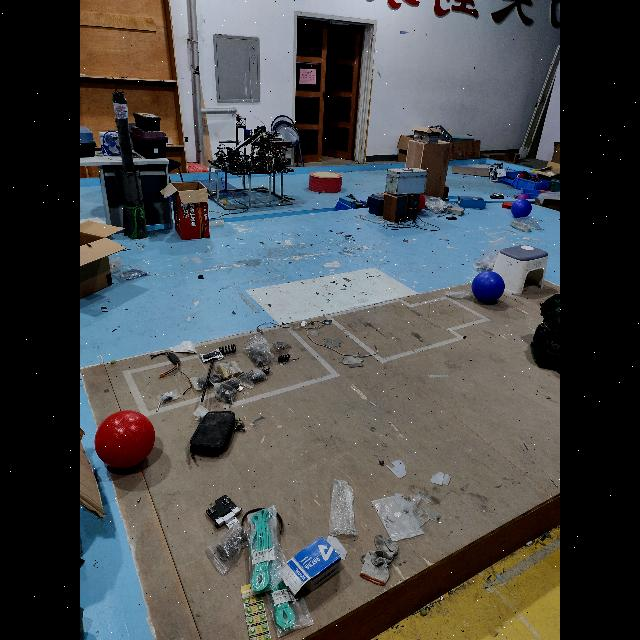B: (471, 270, 505, 304), (512, 200, 532, 218)
R: (94, 408, 156, 469)
